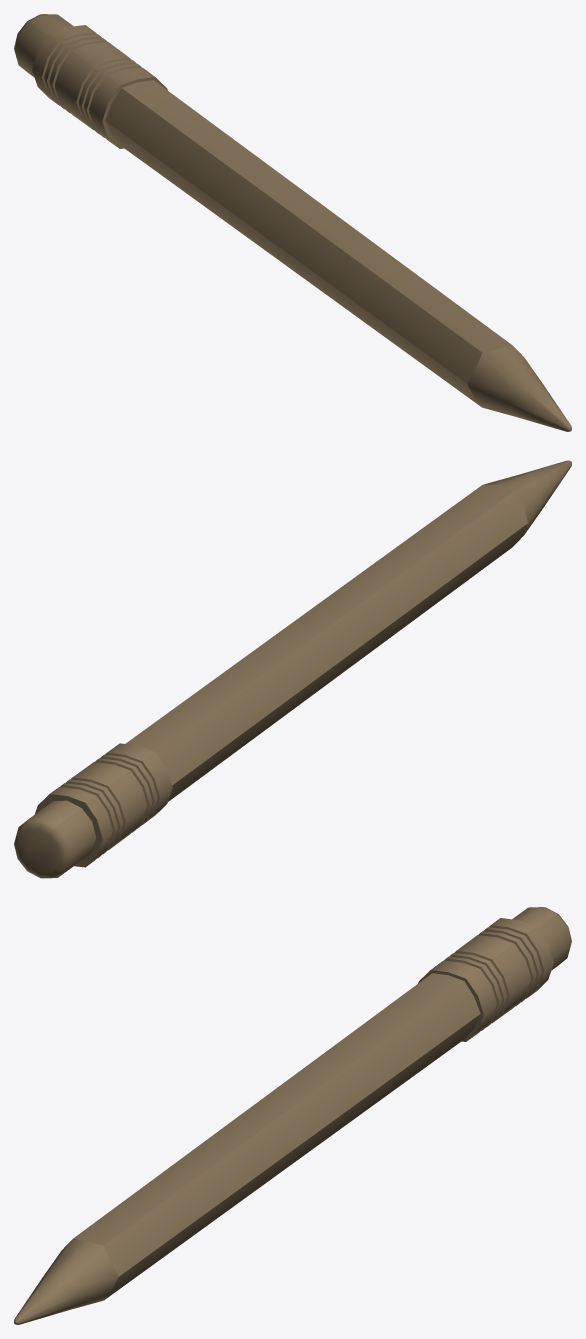
The model's file is pencil.glb.
3 renders of one model, top to bottom at view 1: azimuth 30°, elevation 25°; view 2: azimuth 150°, elevation 25°; view 3: azimuth 330°, elevation 25°, orthographic.
Parts seen in each view (by area): view 1: pencil; view 2: pencil; view 3: pencil.
Boxes of the visible parts, x1,y1,x2,y2 form: pencil: [14, 14, 571, 431]; pencil: [14, 460, 571, 878]; pencil: [14, 907, 571, 1324].
Size of the model in its own units: 0.00964 by 0.00899 by 0.1251.
Materials: 1 (1 with a texture image).
